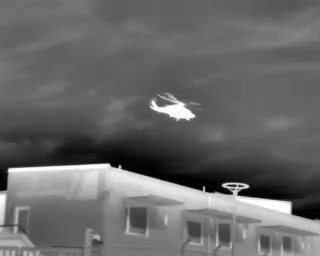HELICOPTER: (147, 86, 206, 128)
